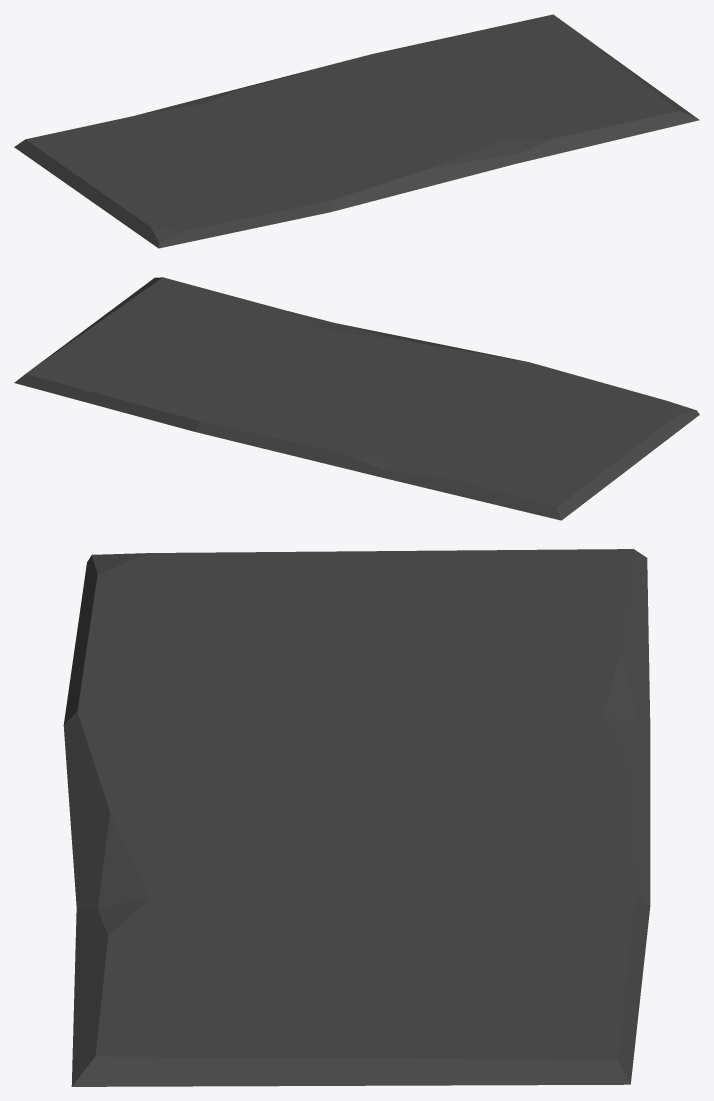
Rendered from SM_Prop_FloorMat_01.fbx.
3 renders of one model, top to bottom at view 1: azimuth 30°, elevation 25°; view 2: azimuth 150°, elevation 25°; view 3: azimuth 270°, elevation 25°, orthographic. The views are drawn at different scales.
Parts seen in each view (by area): view 1: SM_Prop_FloorMat_01; view 2: SM_Prop_FloorMat_01; view 3: SM_Prop_FloorMat_01.
Part boxes in pixels (x1,y1,x2,y2): SM_Prop_FloorMat_01: (14,14,699,248); SM_Prop_FloorMat_01: (14,277,699,520); SM_Prop_FloorMat_01: (63,549,650,1086).
Bounding box in the file's own units: 213 × 3.14 × 100.
